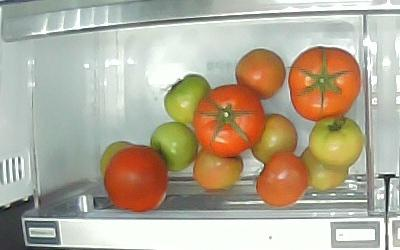tomato: (289, 46, 361, 122), (193, 84, 266, 156), (105, 145, 169, 212), (255, 152, 309, 207), (309, 117, 364, 167), (236, 49, 287, 101), (164, 73, 211, 124), (152, 122, 199, 171), (252, 114, 298, 164), (300, 146, 349, 191), (193, 151, 243, 191)
